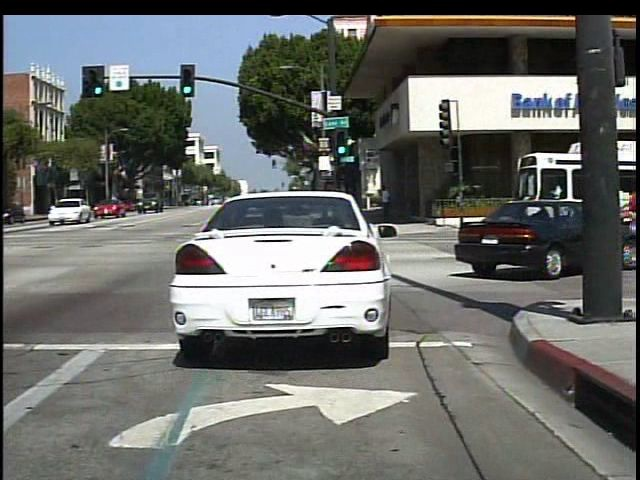person: (378, 182, 396, 223)
